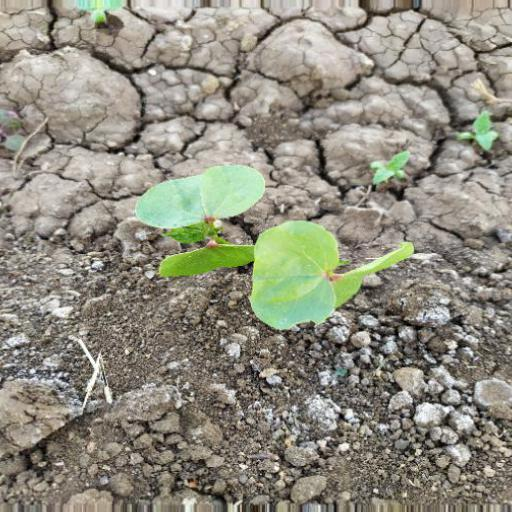weed: (128, 168, 437, 345)
